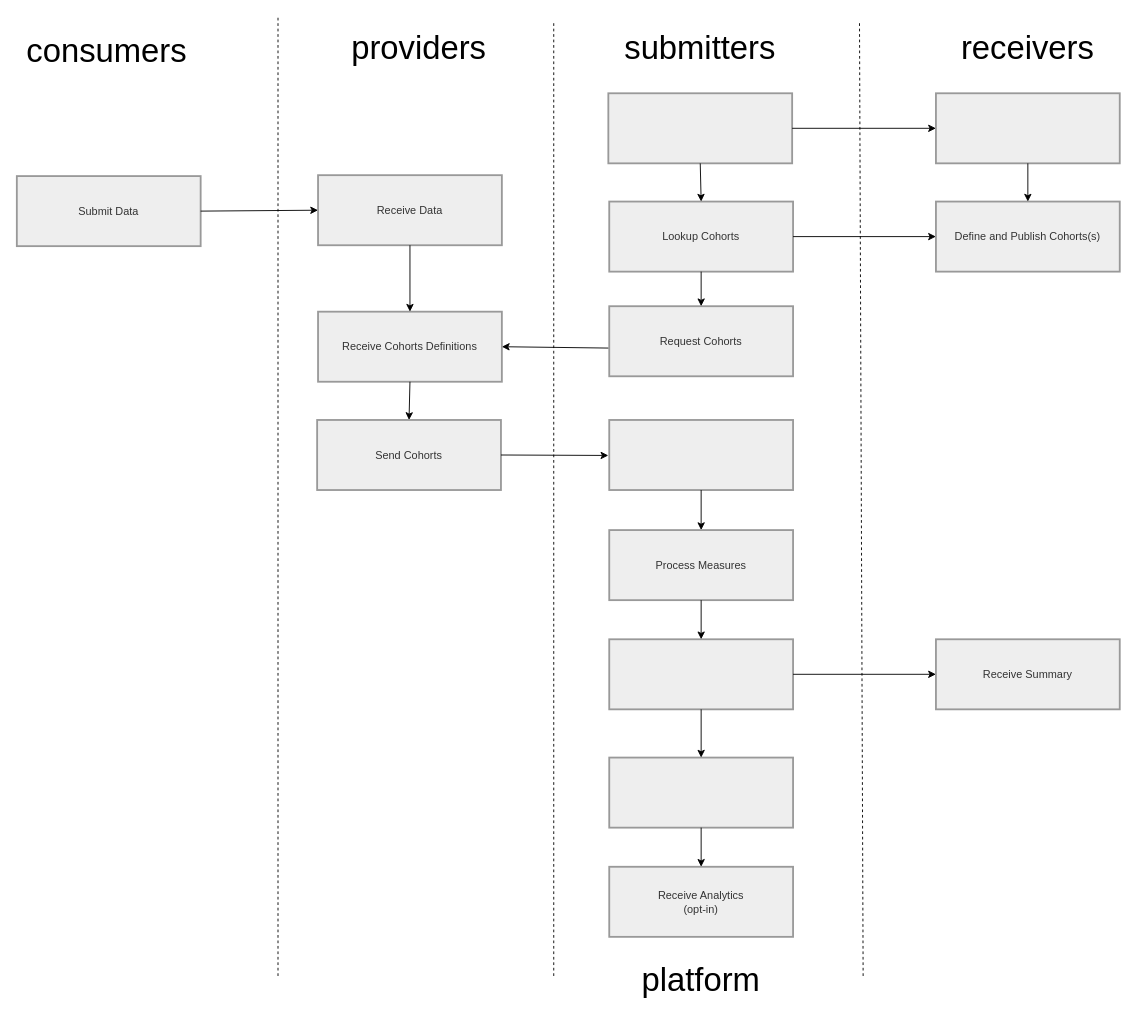
Image size: 1136x1015. Some labels were removed from this diagram. The shapes that lost their labels are listed below. From the top down, each one's centre as x and y in pixels, then its label:
At [700,128]: "Lookup Program(s)".
At [1027,128]: "Define and Publish Program(s)".
At [701,454]: "Recieve Cohorts".
At [701,674]: "Send Summary".
At [701,792]: "Send Analytics (opt-in)".
